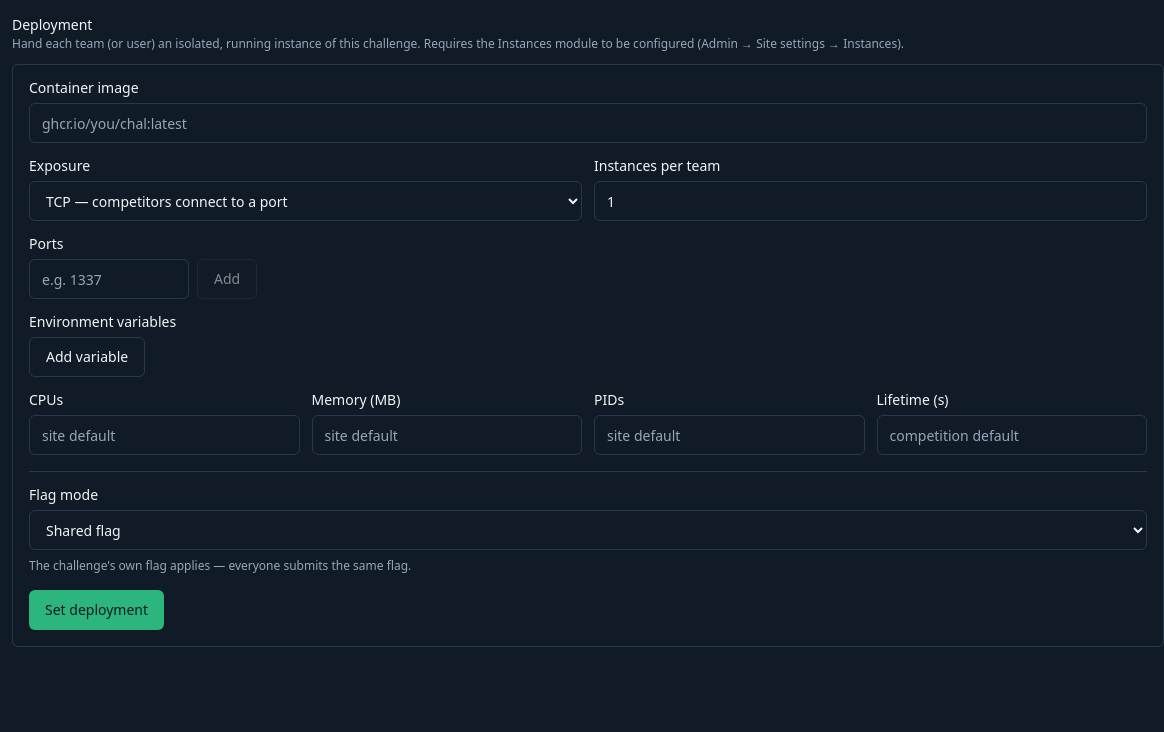
Test: DeploymentSection flag mode › shows the template field only in unique mode
Type "img:1" into the field labelled "Container image" at [588, 123], box [29,103,1147,143]
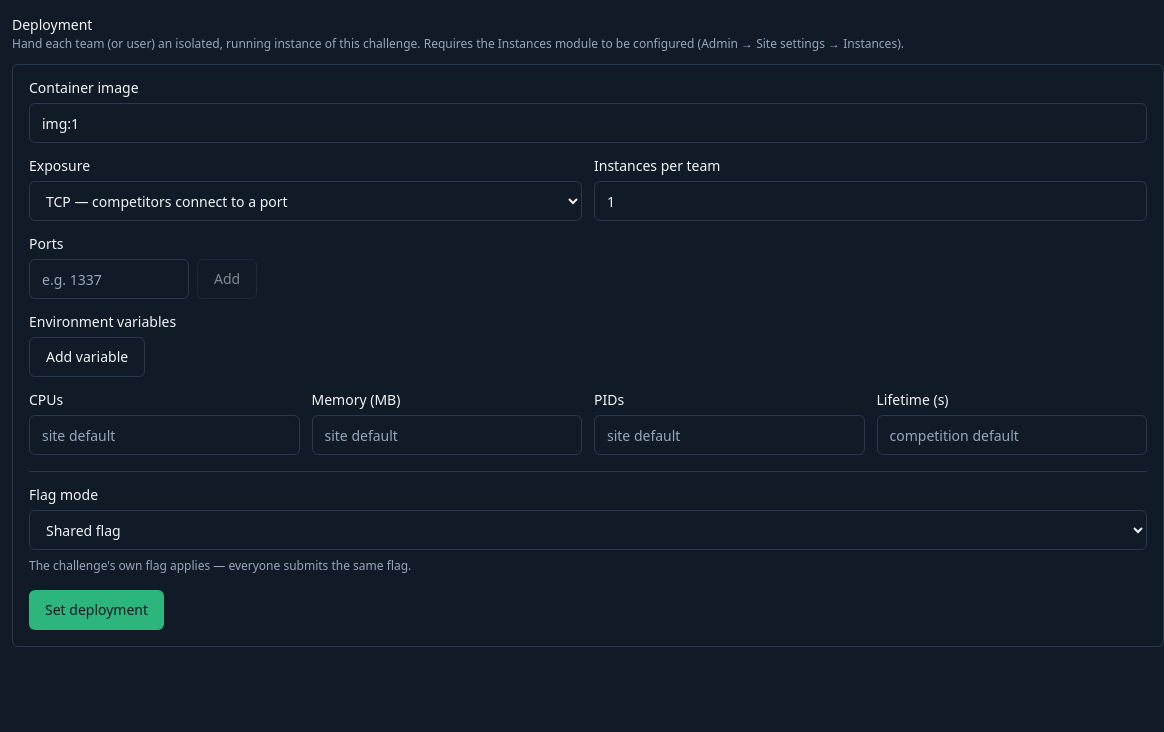
Select "None — no inbound port" in the dropdown labelled "Exposure" at [306, 201], box [29,181,582,221]
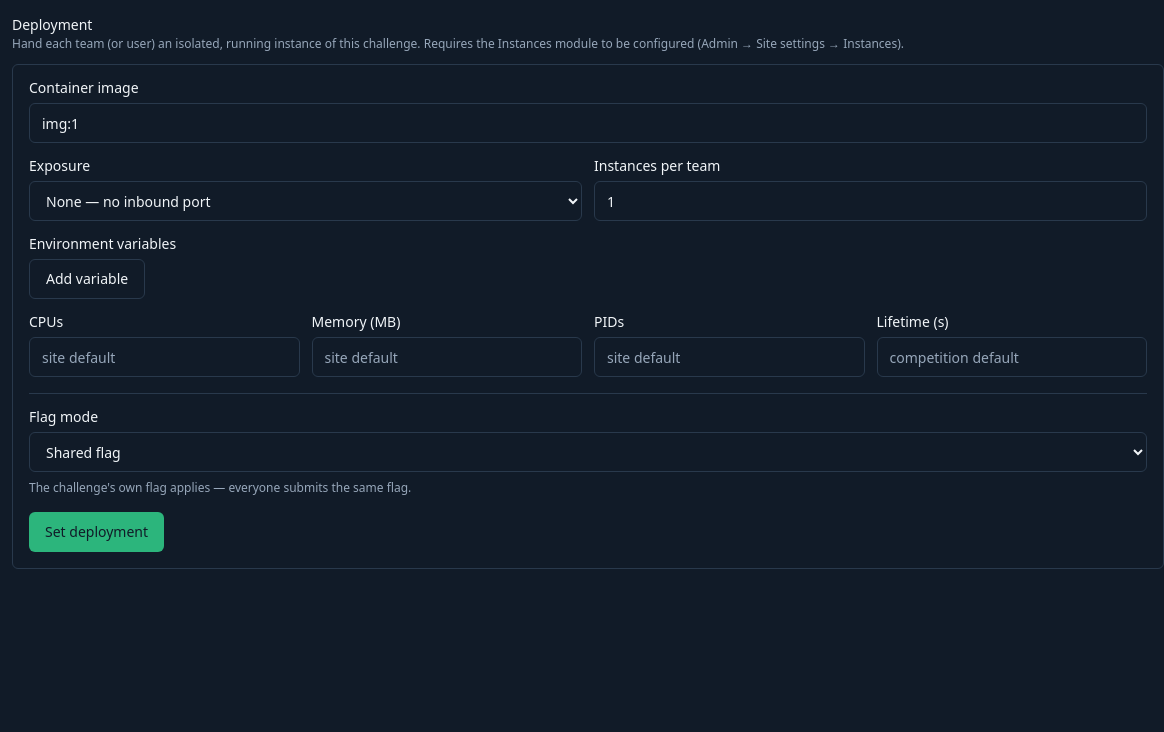
Expected: the field labelled "Flag template" is not shown
Select "Unique per instance" in the dropdown labelled "Flag mode" at [588, 452], box [29,432,1147,472]
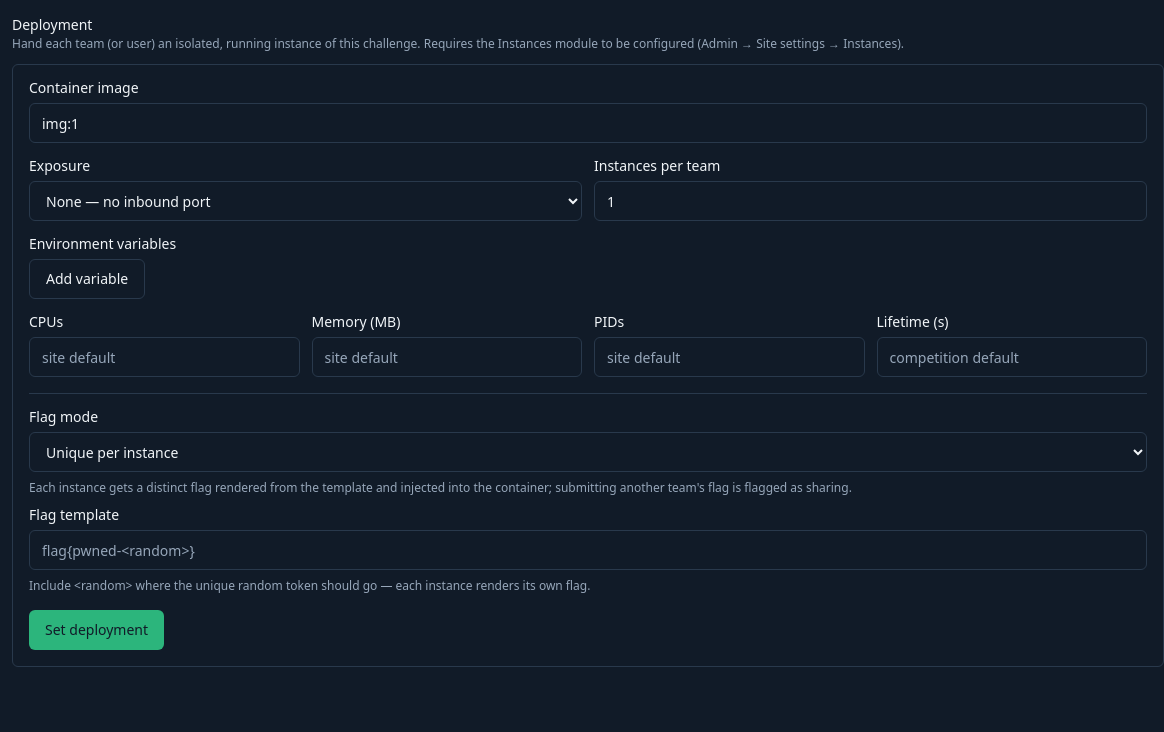
Now the field labelled "Flag template" is shown, box [29,530,1147,570]
